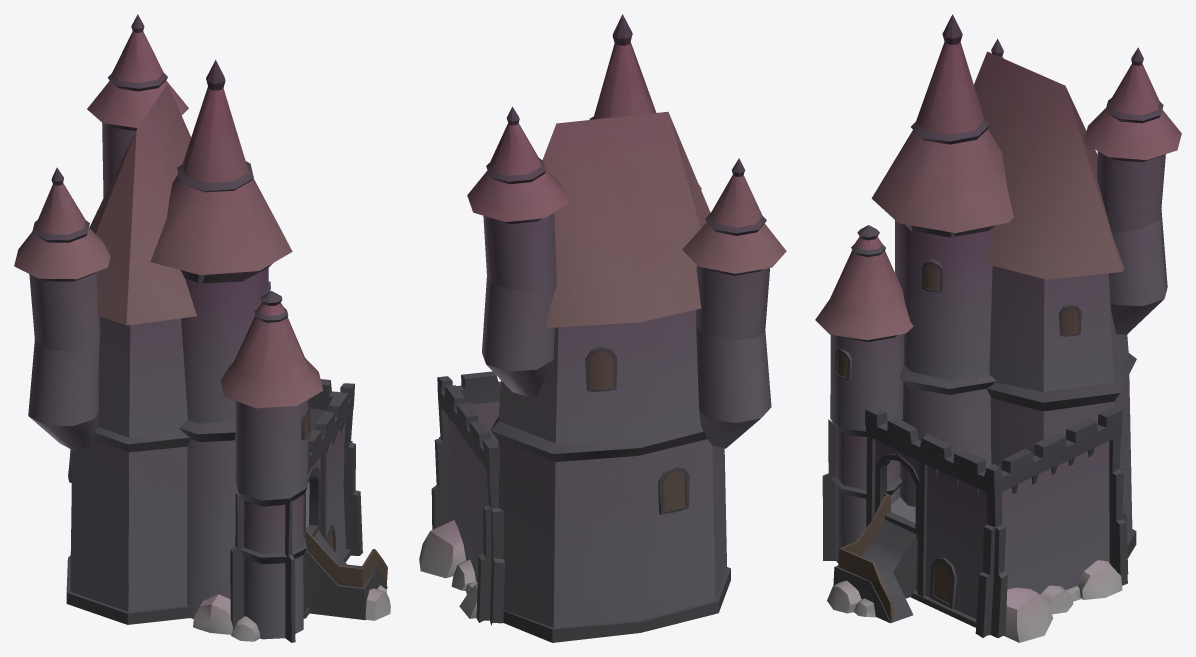
3 renders of one model, left to right at view 1: azimuth 30°, elevation 25°; view 2: azimuth 150°, elevation 25°; view 3: azimuth 270°, elevation 25°, orthographic. The views are drawn at different scales.
Parts seen in each view (by area): view 1: castle; view 2: castle; view 3: castle.
Part boxes in pixels (x1=…): castle: x1=14, y1=14, x2=390, y2=642; castle: x1=419, y1=14, x2=786, y2=642; castle: x1=815, y1=14, x2=1181, y2=642.
Size of the model in its own units: 18.62 by 28.74 by 17.42.
